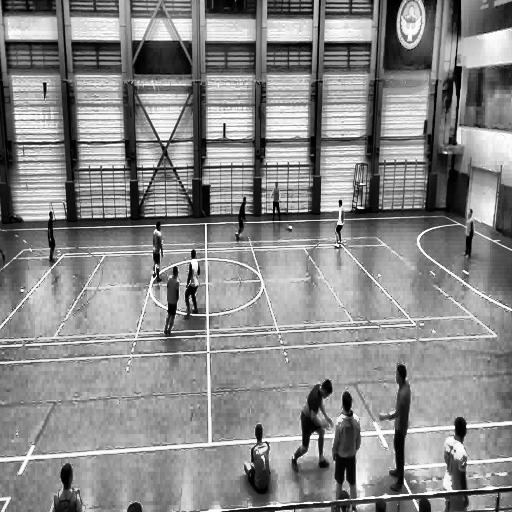ball: (287, 225, 293, 234)
player: (378, 364, 410, 488), (292, 380, 334, 474), (331, 393, 359, 510), (246, 423, 272, 495), (184, 249, 201, 317), (164, 266, 180, 337), (152, 222, 164, 280), (332, 198, 344, 248), (462, 208, 474, 258), (236, 197, 248, 241), (47, 208, 56, 262), (271, 180, 282, 221), (0, 213, 8, 267)
